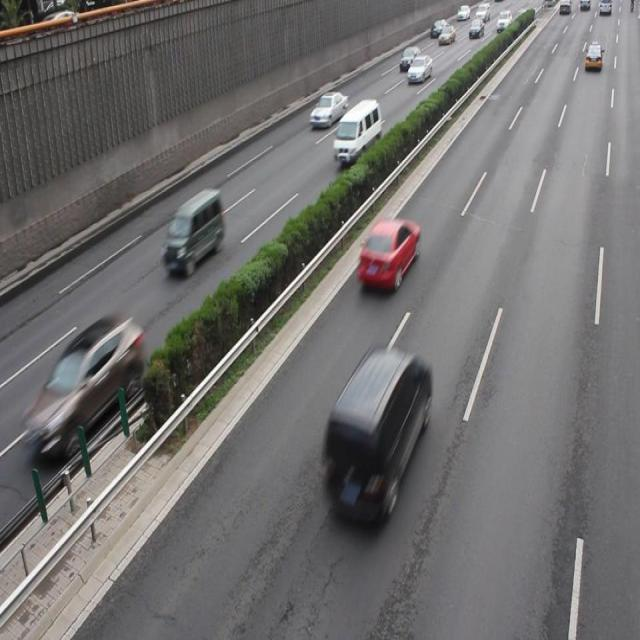car: (30, 314, 143, 465), (356, 218, 419, 294), (309, 90, 347, 130)
truck: (320, 347, 430, 526), (162, 188, 224, 279), (332, 98, 382, 167)
